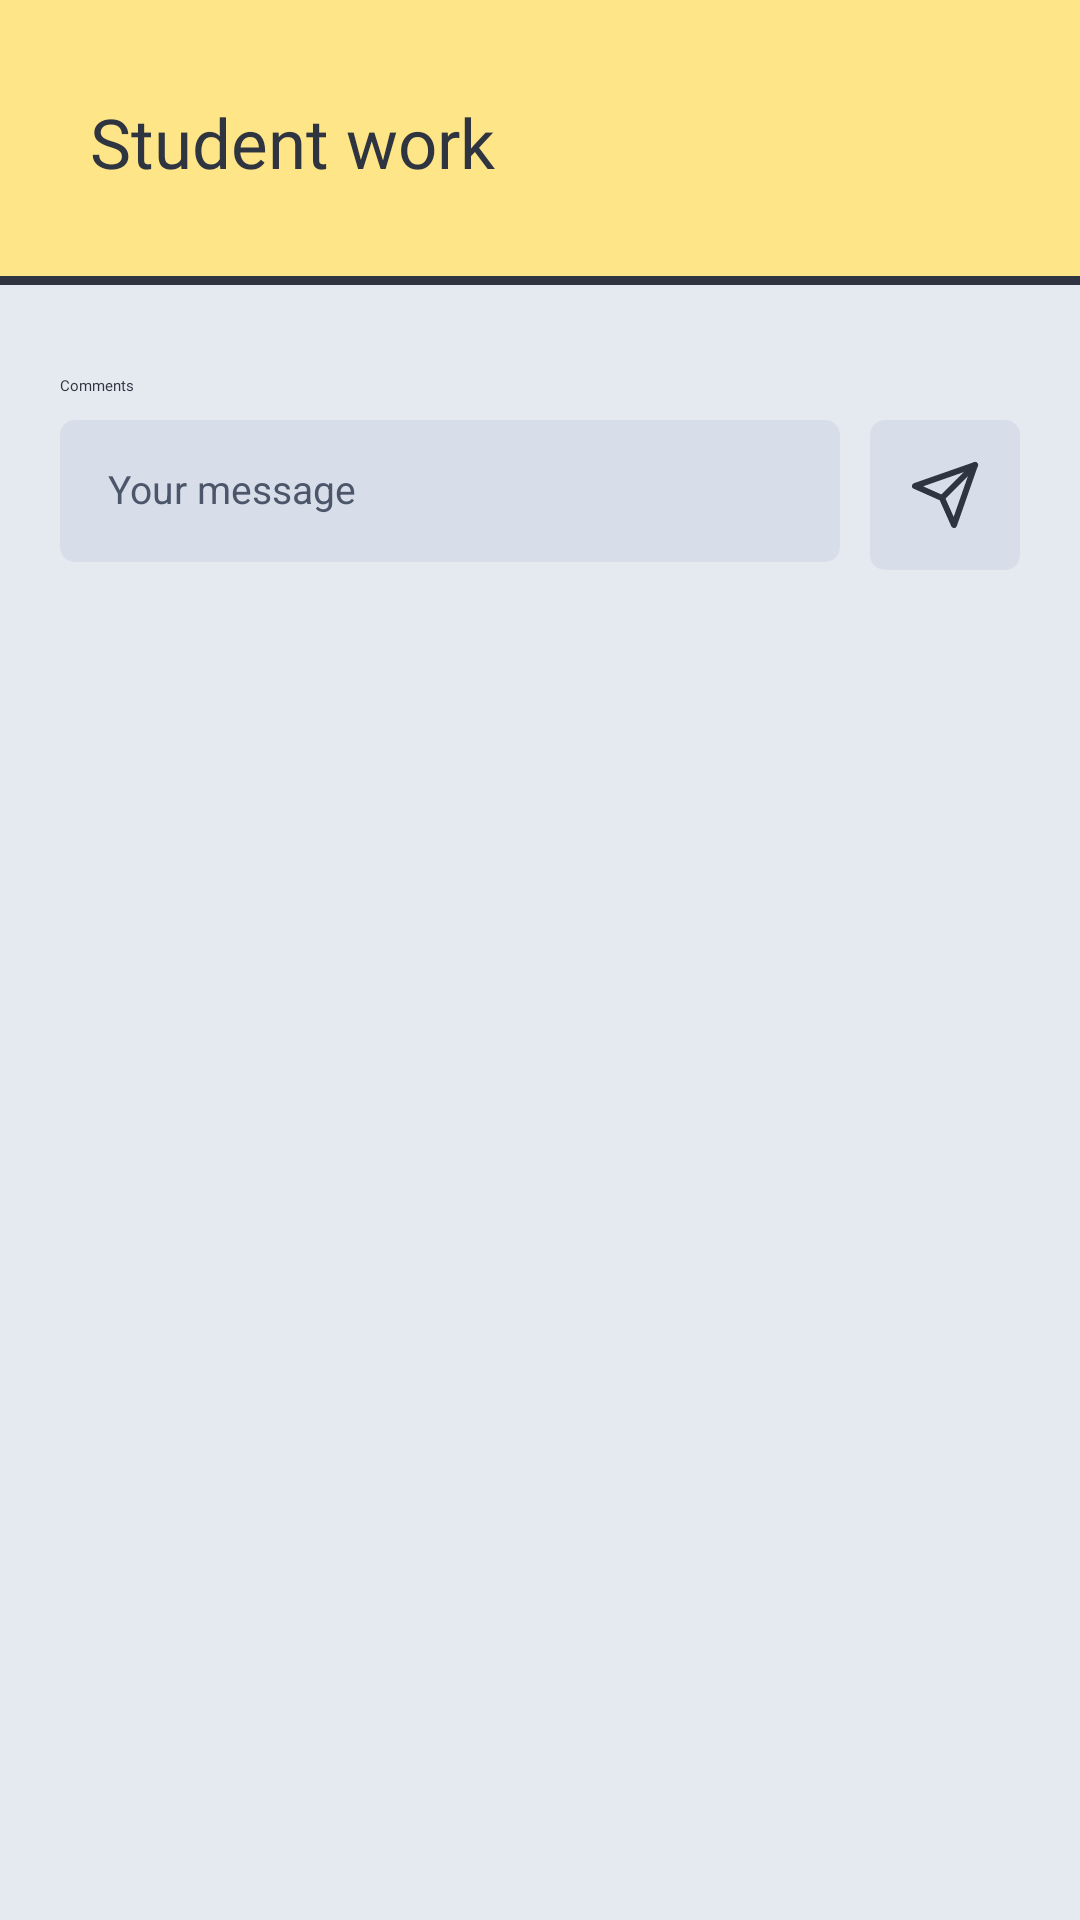

Icons on this 1080 x 1920 Android screen, each with its box as {"x1": x1, "y1": y1, "x2": x2, "y2": y2}:
send: {"x1": 870, "y1": 420, "x2": 1020, "y2": 570}
